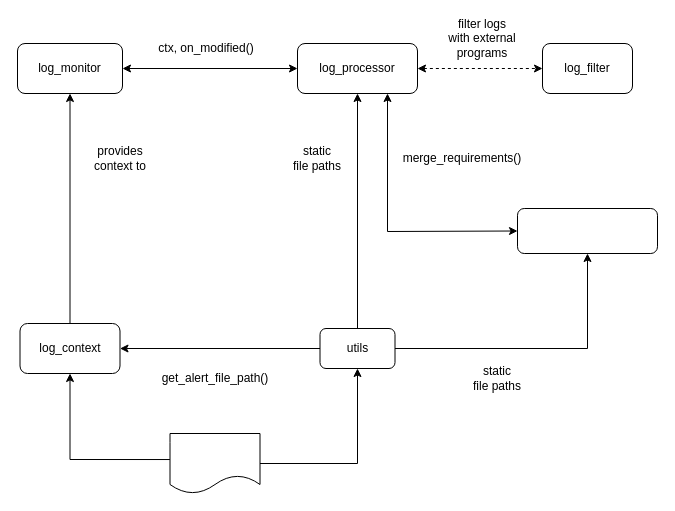
Image size: 675x511. Some labels were removed from this diagram. The shapes that lost their labels are listed below. From the top down, each one's centre as x and y in pixels, then its label:
At point 587,231: "merge_requirements".
At point 214,463: "config.json".
